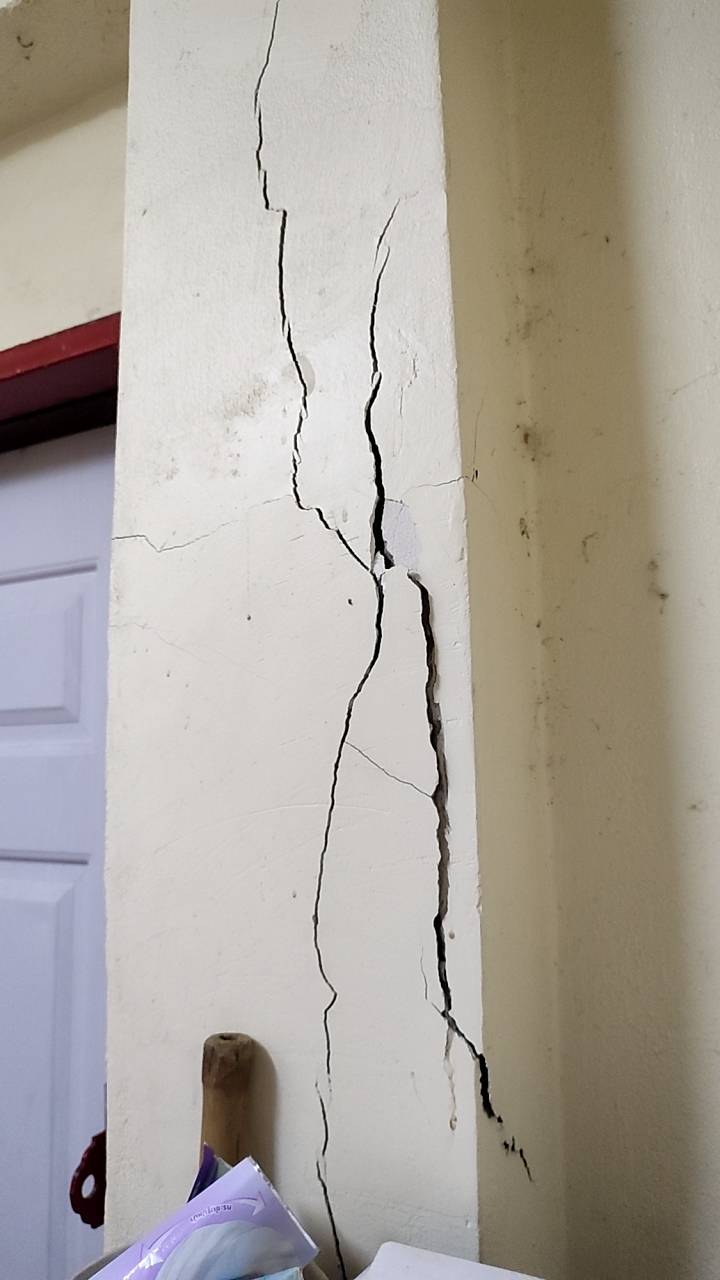High: (230, 3, 549, 1276)
